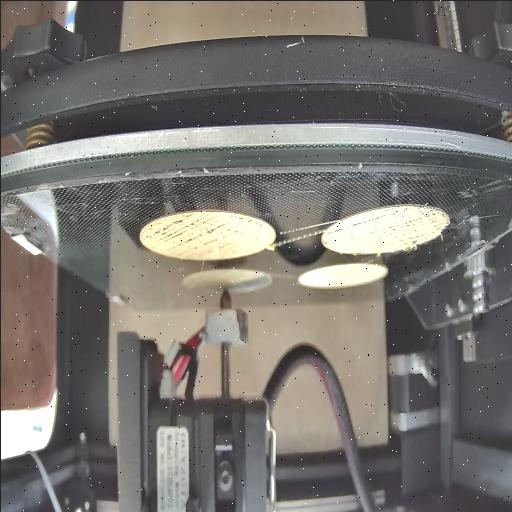under_extrusion: (326, 210, 442, 247), (144, 215, 262, 249)
